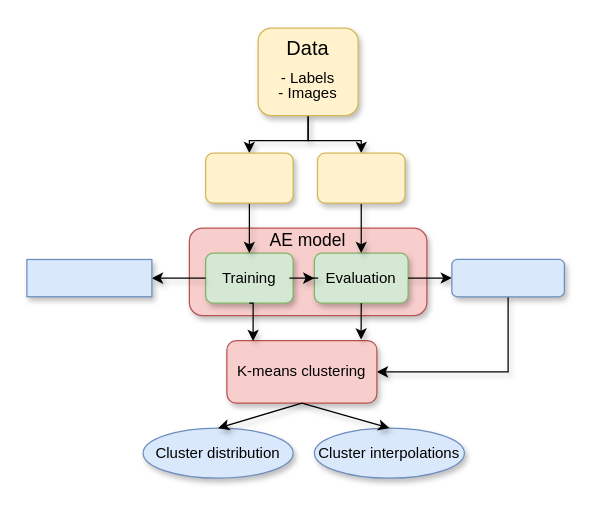
Some shapes in this 594 by 509 pixel diagram are drawn without their labels. Each missing label, with the centre of its shape:
GAP statistic: pixel 509 279
Reconstruction MSE loss: pixel 90 279
Test data: pixel 361 179
Train data: pixel 250 179
